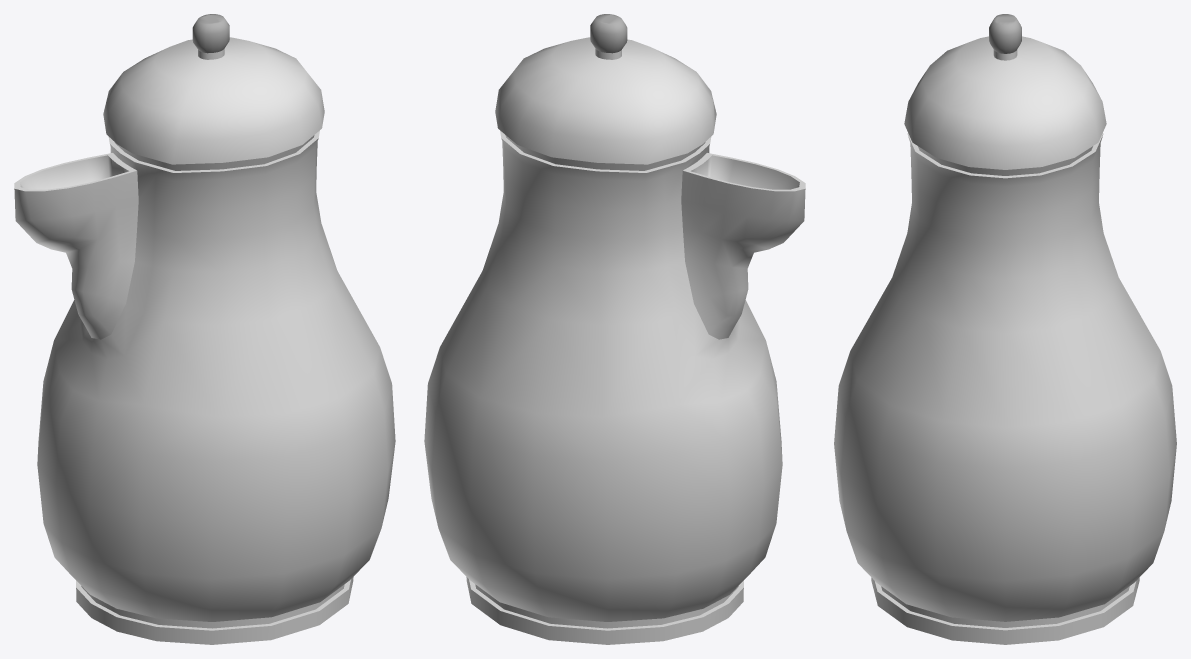
The model's file is Hea_Player_Teapot.fbx.
3 renders of one model, left to right at view 1: azimuth 30°, elevation 25°; view 2: azimuth 150°, elevation 25°; view 3: azimuth 270°, elevation 25°, orthographic.
Parts seen in each view (by area): view 1: Teapot; view 2: Teapot; view 3: Teapot.
Boxes of the visible parts, x1,y1,x2,y2 form: Teapot: (14,14,395,644); Teapot: (424,14,805,644); Teapot: (834,14,1176,644).
Bounding box in the file's own units: 21.1 × 31.99 × 17.6.
